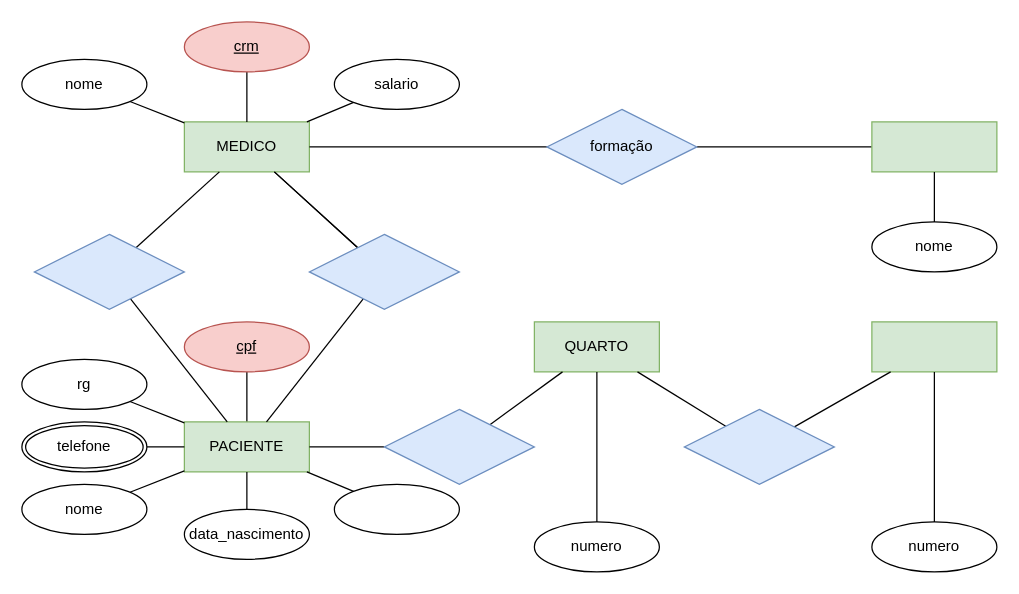
Image size: 1019x594. Some labels were removed from this diagram. Here are the shapes that lost their labels. From the top down, the centre of each, then its label:
At [934,146]: "ESPECIALIDADE".
At [108,271]: "medico_responsavel".
At [383,271]: "outros_medicos".
At [934,346]: "ANDAR".
At [458,446]: "leito".
At [758,446]: "numero_andar_quarto".
At [396,508]: "endereco".
